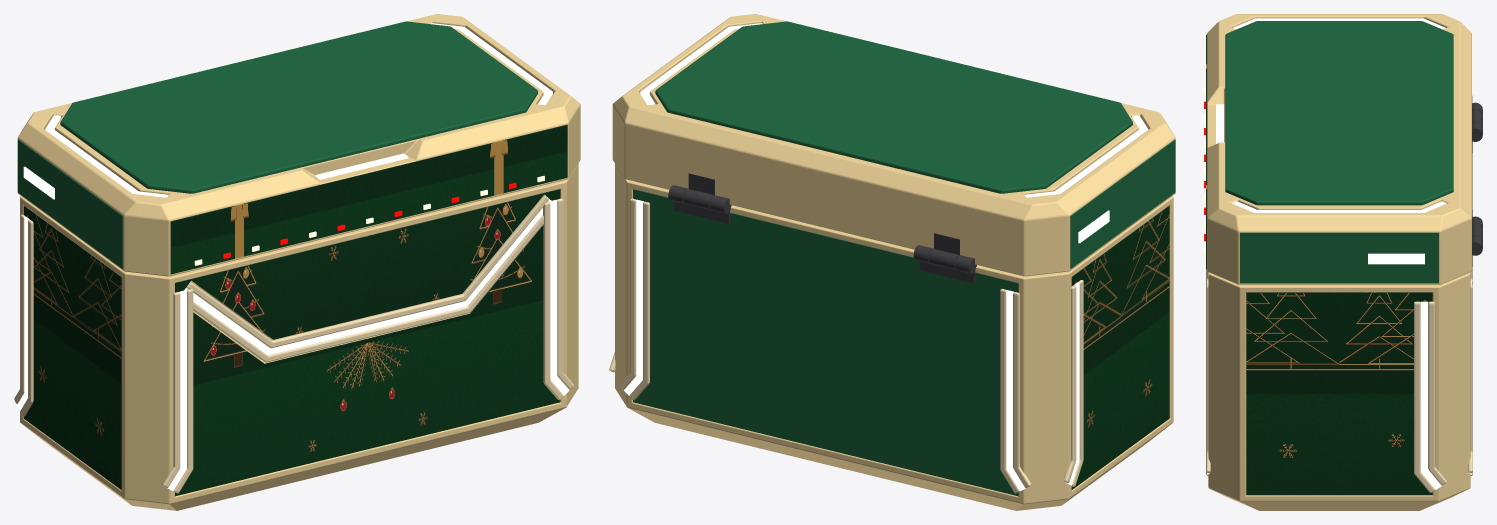
Rendered from xmas.glb.
3 views of the same model, side by side, from view 1: azimuth 30°, elevation 25°; view 2: azimuth 150°, elevation 25°; view 3: azimuth 270°, elevation 25° (orthographic). The views are drawn at different scales.
Visible parts, largest first — view 1: PlateFB, LidTopPanel, BodyCore, LidBand, LidFrontPlate, PlateSide, LidSidePlate, Rail_5, Rail_4, LedPath_3, Rail_16, LedPath_15 (+9 smaller); view 2: PlateFB.001, LidTopPanel, LidBand, BodyCore, PlateSide, LidSidePlate, Rail_10, Rail_20, LedPath_9, LedPath_18, Rail_11, Rail_19 (+5 smaller); view 3: LidTopPanel, PlateSide.001, BodyCore, LidBand, LidSidePlate.001, LedPath_21, Rail_22, Rail_23, LedPath_27, LedPath_30, LedPath_26, Rail_17 (+2 smaller).
Boxes of the visible parts, box(x1,y1,x2,y2) form: PlateFB: box(175, 189, 560, 496); LidTopPanel: box(60, 21, 537, 193); BodyCore: box(20, 163, 578, 510); LidBand: box(17, 14, 580, 276); LidFrontPlate: box(170, 125, 567, 274); PlateSide: box(23, 206, 121, 489); LidSidePlate: box(17, 139, 122, 268); Rail_5: box(186, 195, 548, 348); Rail_4: box(193, 215, 543, 362); LedPath_3: box(184, 199, 550, 354); Rail_16: box(543, 201, 563, 400); LedPath_15: box(549, 199, 569, 395); PlateFB.001: box(633, 189, 1018, 496); LidTopPanel: box(655, 21, 1132, 193); LidBand: box(612, 14, 1175, 276); BodyCore: box(615, 164, 1173, 510); PlateSide: box(1071, 205, 1169, 489); LidSidePlate: box(1070, 139, 1175, 268); Rail_10: box(1000, 288, 1019, 493); Rail_20: box(629, 201, 649, 400); LedPath_9: box(1006, 290, 1025, 491); LedPath_18: box(624, 199, 643, 395); Rail_11: box(1013, 292, 1031, 487); Rail_19: box(619, 198, 636, 389); LidTopPanel: box(1225, 21, 1453, 205); PlateSide.001: box(1246, 292, 1432, 495); BodyCore: box(1208, 272, 1470, 510); LidBand: box(1207, 14, 1471, 284); LidSidePlate.001: box(1240, 232, 1438, 283); LedPath_21: box(1420, 301, 1441, 489); Rail_22: box(1414, 301, 1435, 493); Rail_23: box(1428, 301, 1446, 485); LedPath_27: box(1232, 201, 1446, 212); LedPath_30: box(1368, 253, 1424, 264); LedPath_26: box(1233, 18, 1445, 29); Rail_17: box(1206, 284, 1210, 473).
Size of the model in its own units: 1.78 by 1.17 by 0.978.
Materials: 12 (3 with a texture image).
